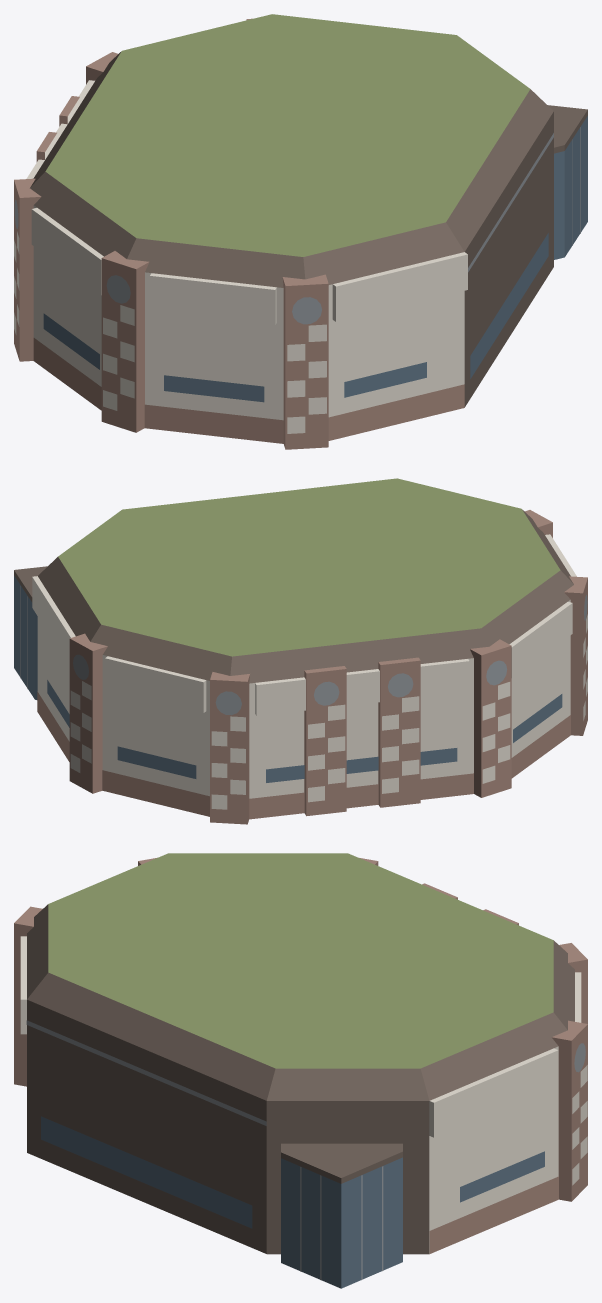
Rendered from msp-target-center.glb.
The picture shows the model from 3 angles, top to bottom: view 1: azimuth 30°, elevation 25°; view 2: azimuth 150°, elevation 25°; view 3: azimuth 270°, elevation 25°; orthographic projection. The views are drawn at different scales.
Parts seen in each view (by area): view 1: Target Center; view 2: Target Center; view 3: Target Center.
Boxes of the visible parts, x1,y1,x2,y2 form: Target Center: [14, 14, 587, 449]; Target Center: [14, 478, 587, 824]; Target Center: [14, 853, 587, 1288].
Bounding box in the file's own units: 151 × 45.5 × 134.
